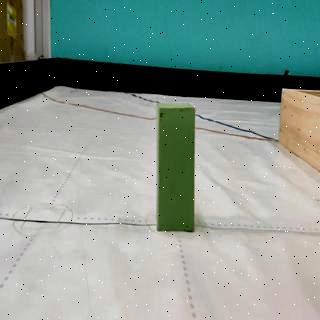greenbox: (156, 105, 196, 233)
